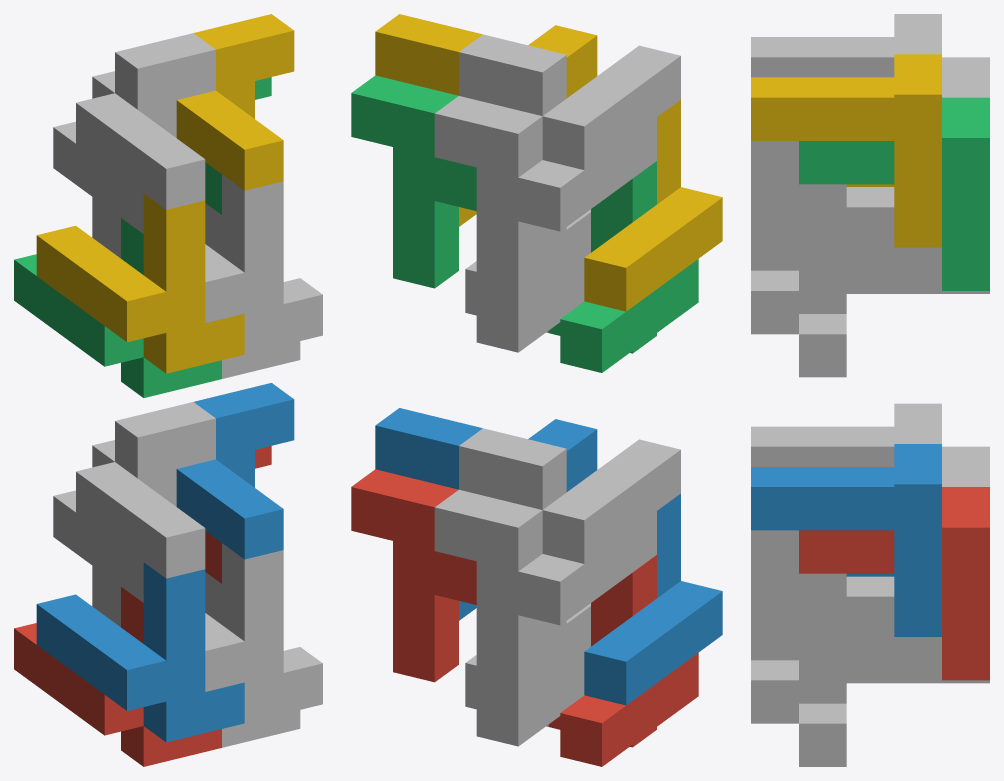
File: tiling.obj
3 renders of one model, left to right at view 1: azimuth 30°, elevation 25°; view 2: azimuth 150°, elevation 25°; view 3: azimuth 270°, elevation 25°, orthographic. The views are drawn at different scales.
Visible parts, largest first — view 1: copy_1_domain_2, copy_1_domain_4, copy_2_domain_2, copy_2_domain_4, copy_1_domain_8, copy_1_domain_6, copy_2_domain_6, copy_2_domain_8, copy_1_domain_3, copy_1_domain_1, copy_2_domain_1, copy_2_domain_3 (+4 smaller); view 2: copy_2_domain_1, copy_2_domain_3, copy_2_domain_4, copy_2_domain_2, copy_2_domain_5, copy_2_domain_7, copy_1_domain_4, copy_1_domain_2, copy_1_domain_1, copy_1_domain_3, copy_2_domain_6, copy_2_domain_8 (+4 smaller); view 3: copy_2_domain_8, copy_2_domain_6, copy_1_domain_5, copy_1_domain_7, copy_2_domain_5, copy_2_domain_7, copy_1_domain_8, copy_1_domain_6, copy_2_domain_2, copy_2_domain_4, copy_2_domain_1, copy_2_domain_3.
Boxes of the visible parts, x1=… form: copy_1_domain_2: x1=36, y1=562, x2=244, y2=742; copy_1_domain_4: x1=36, y1=193, x2=244, y2=373; copy_2_domain_2: x1=76, y1=402, x2=215, y2=588; copy_2_domain_4: x1=76, y1=33, x2=215, y2=219; copy_1_domain_8: x1=115, y1=174, x2=322, y2=354; copy_1_domain_6: x1=115, y1=543, x2=322, y2=723; copy_2_domain_6: x1=176, y1=383, x2=294, y2=559; copy_2_domain_8: x1=176, y1=14, x2=294, y2=190; copy_1_domain_3: x1=14, y1=218, x2=221, y2=397; copy_1_domain_1: x1=14, y1=587, x2=221, y2=766; copy_2_domain_1: x1=53, y1=440, x2=143, y2=622; copy_2_domain_3: x1=53, y1=71, x2=143, y2=253; copy_2_domain_1: x1=434, y1=489, x2=656, y2=702; copy_2_domain_3: x1=434, y1=96, x2=656, y2=308; copy_2_domain_4: x1=459, y1=34, x2=680, y2=246; copy_2_domain_2: x1=459, y1=428, x2=680, y2=640; copy_2_domain_5: x1=351, y1=469, x2=476, y2=682; copy_2_domain_7: x1=351, y1=75, x2=476, y2=288; copy_1_domain_4: x1=584, y1=100, x2=722, y2=311; copy_1_domain_2: x1=584, y1=493, x2=722, y2=705; copy_1_domain_1: x1=549, y1=555, x2=698, y2=766; copy_1_domain_3: x1=549, y1=161, x2=698, y2=372; copy_2_domain_6: x1=375, y1=408, x2=597, y2=620; copy_2_domain_8: x1=375, y1=14, x2=597, y2=226; copy_2_domain_8: x1=751, y1=54, x2=941, y2=247; copy_2_domain_6: x1=751, y1=444, x2=941, y2=636; copy_1_domain_5: x1=799, y1=573, x2=989, y2=766; copy_1_domain_7: x1=799, y1=184, x2=989, y2=377; copy_2_domain_5: x1=799, y1=487, x2=989, y2=680; copy_2_domain_7: x1=799, y1=97, x2=989, y2=290; copy_1_domain_8: x1=751, y1=141, x2=941, y2=334; copy_1_domain_6: x1=751, y1=530, x2=941, y2=723; copy_2_domain_2: x1=751, y1=403, x2=941, y2=466; copy_2_domain_4: x1=751, y1=14, x2=941, y2=77; copy_2_domain_1: x1=942, y1=446, x2=989, y2=486; copy_2_domain_3: x1=942, y1=57, x2=989, y2=97.
Size of the model in its own units: 6 by 16 by 5.
